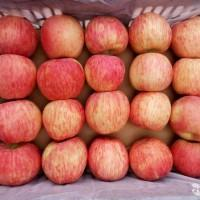apple: (36, 57, 85, 101), (41, 138, 87, 184), (126, 137, 172, 182), (39, 14, 83, 61), (129, 12, 172, 54), (86, 92, 129, 134), (87, 138, 129, 179), (1, 101, 42, 143), (127, 54, 174, 90), (43, 100, 85, 140), (1, 145, 42, 185), (131, 91, 170, 132), (85, 16, 128, 53), (1, 55, 36, 100), (86, 53, 127, 90), (1, 15, 37, 55), (171, 95, 200, 142), (172, 16, 200, 58), (170, 138, 200, 177), (171, 57, 200, 95)
